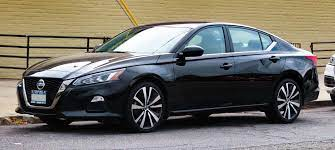Nissan: (19, 20, 319, 129)
